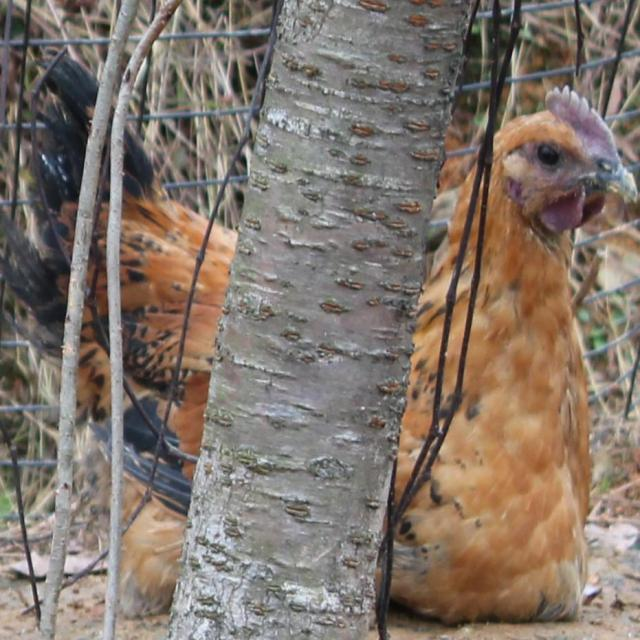hen: (388, 170, 473, 493), (113, 135, 210, 400), (165, 223, 238, 454), (110, 454, 196, 622), (79, 202, 110, 420), (122, 407, 157, 519)
